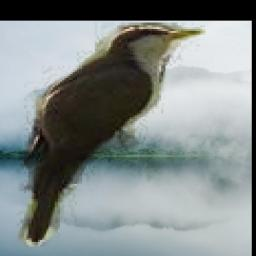Cuckoo: (16, 23, 204, 248)
